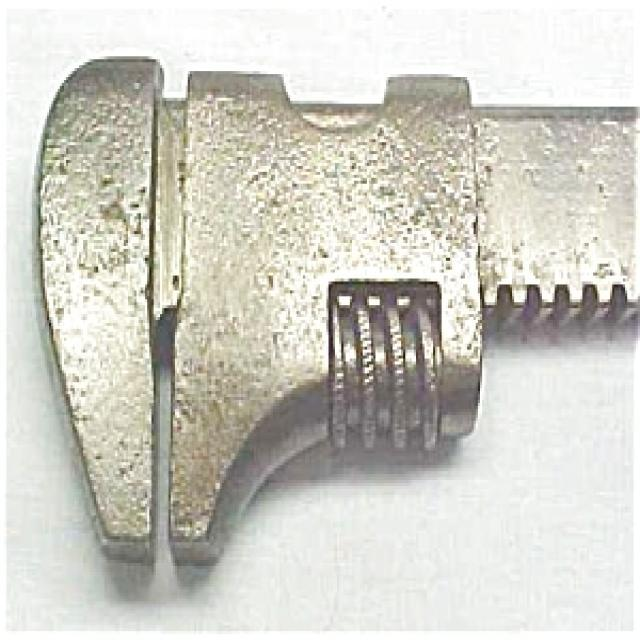wrench: (24, 49, 640, 572)
